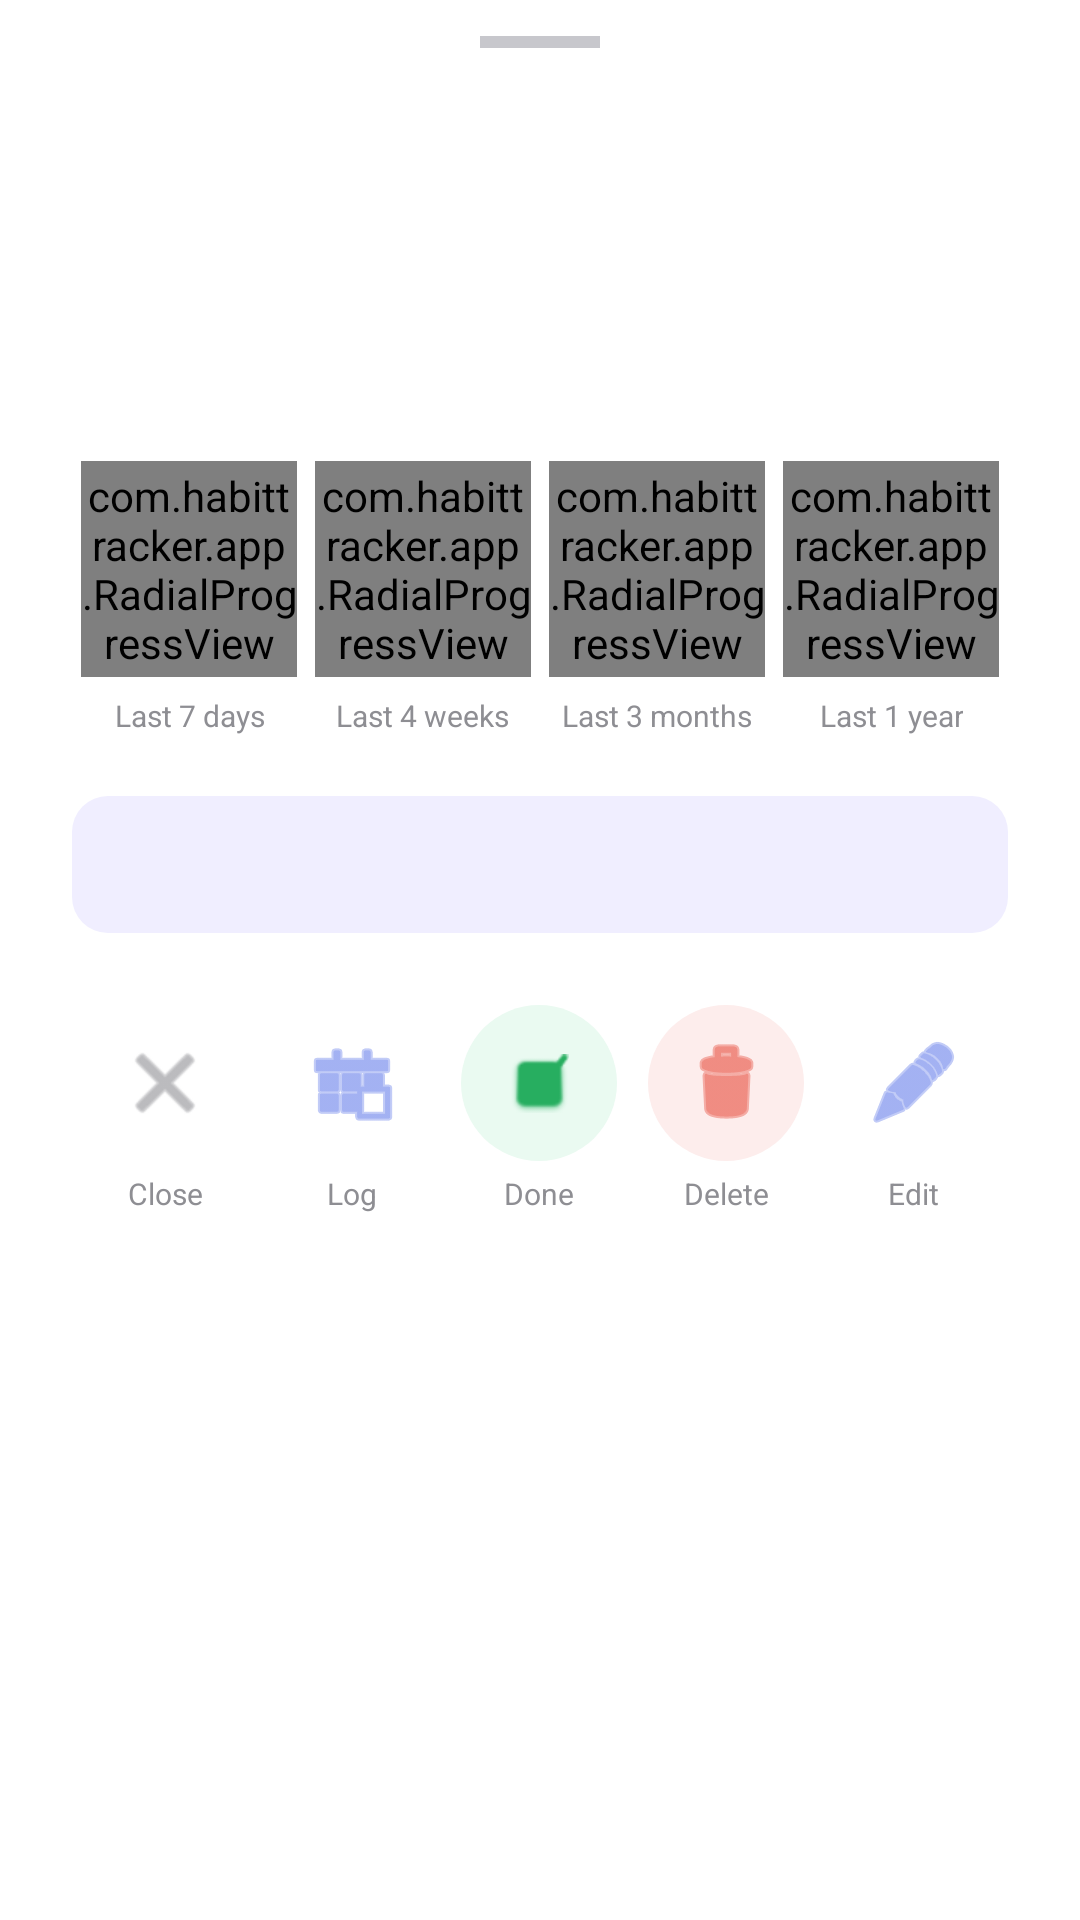

Icons on this 1080 x 1920 Android screen, each with its box as bbox=(x1, y1, x2, y2):
View log: bbox=(314, 1048, 392, 1121)
